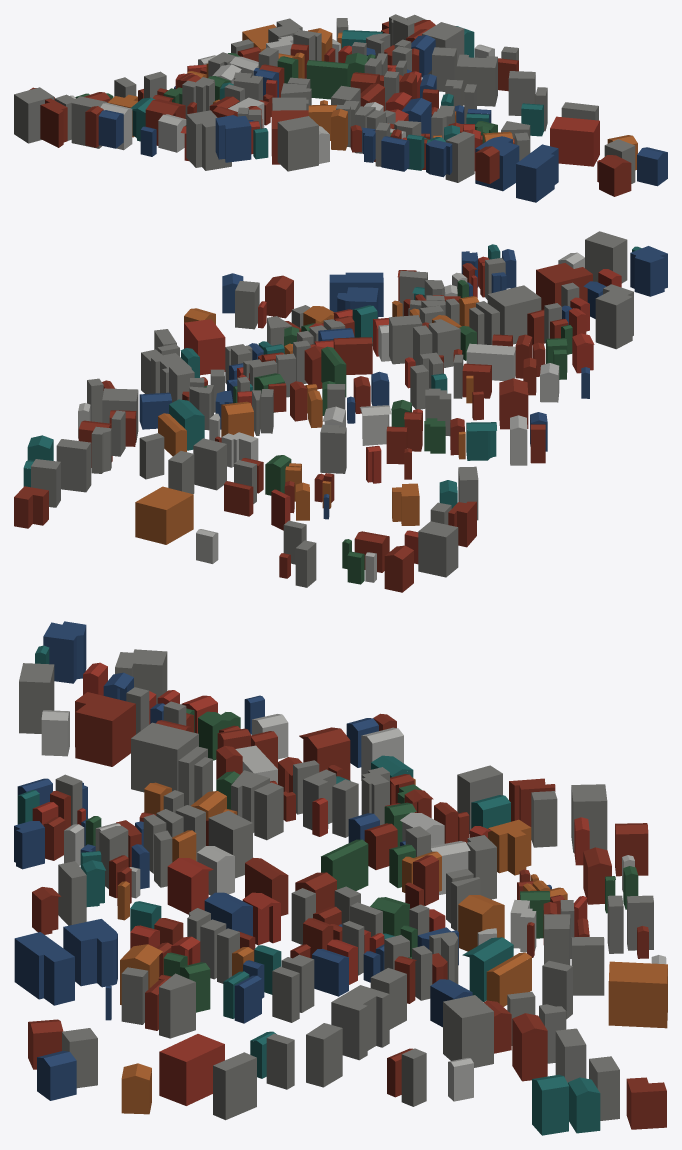
Rendered from near-17-109439-59475.5771b73a.glb.
The picture shows the model from 3 angles, top to bottom: view 1: azimuth 30°, elevation 25°; view 2: azimuth 150°, elevation 25°; view 3: azimuth 270°, elevation 25°; orthographic projection. The views are drawn at different scales.
Size of the model in its own units: 305 by 125 by 298.
